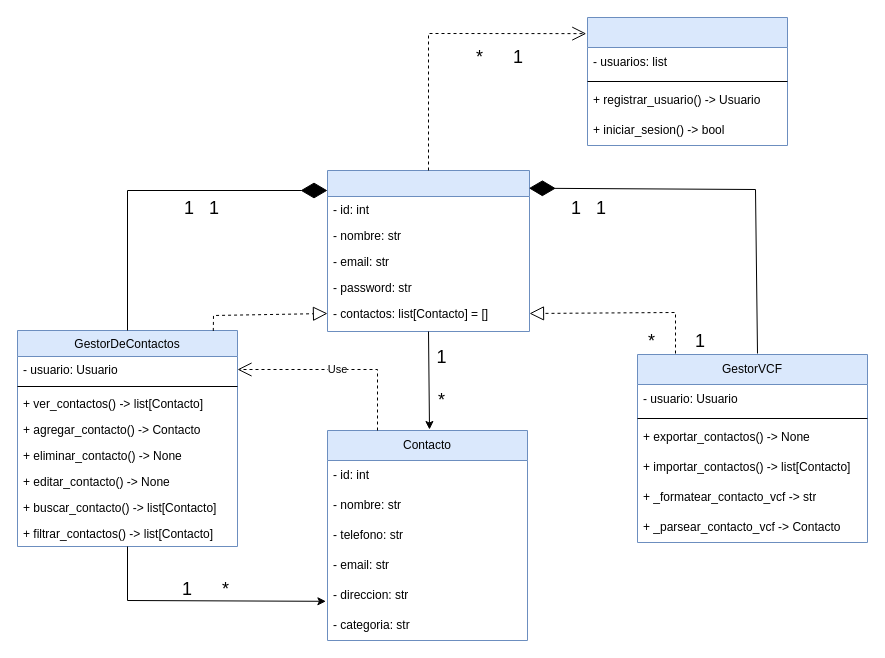
This 885x658 diagram has some shape labels left out. The shapes that lost their labels are listed below. From the top down, each one's box as (x1, y1, x2, y2) in pixels, then its label:
(586, 16, 788, 146): Autenticador
(326, 170, 530, 332): Usuario
